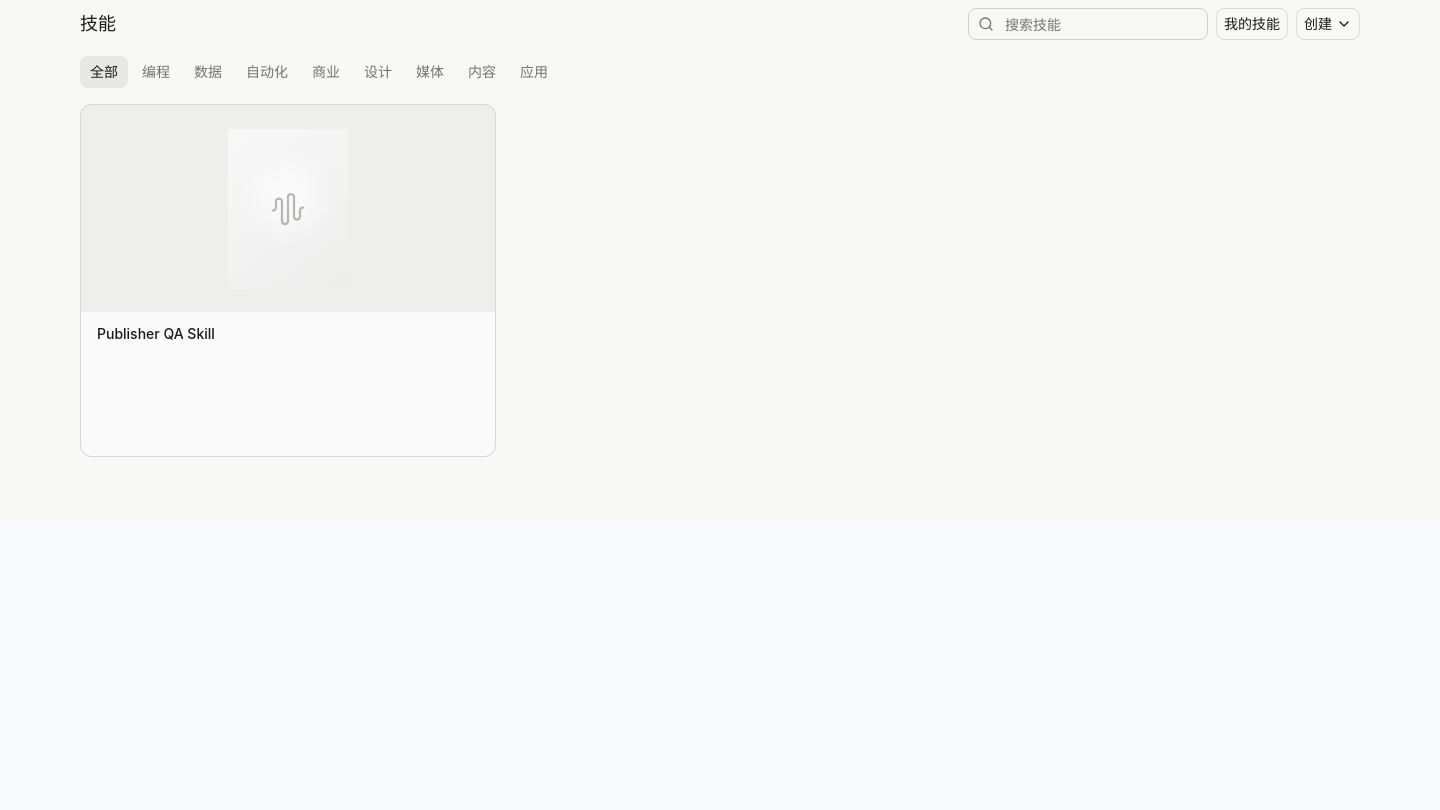
Scenario: shows only the same proven publisher in catalog and detail: $label
Click the button "Publisher QA Skill" at (156, 334), box [97,324,215,344]
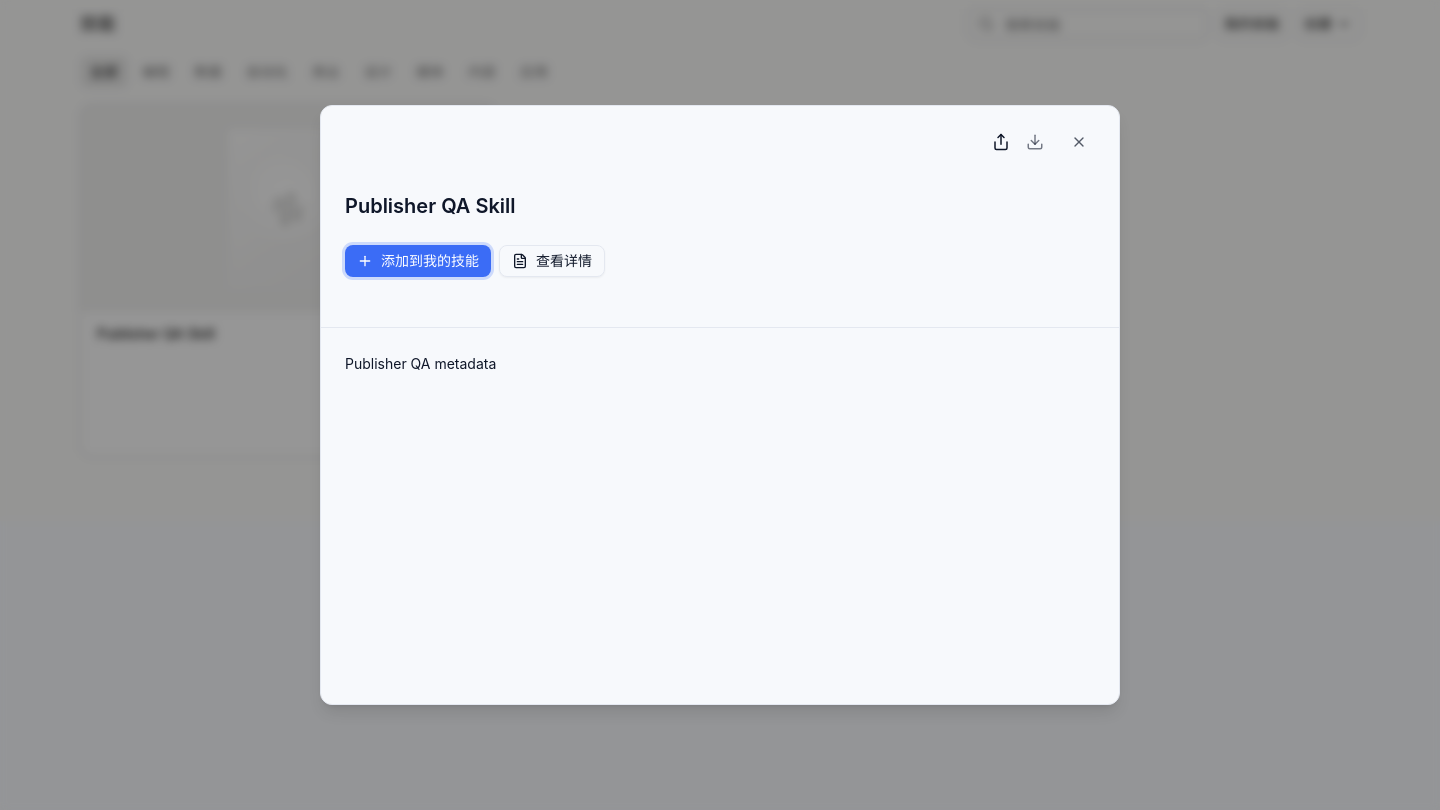
Expected: the text "Publisher QA metadata" is shown, [345,355,496,372]
